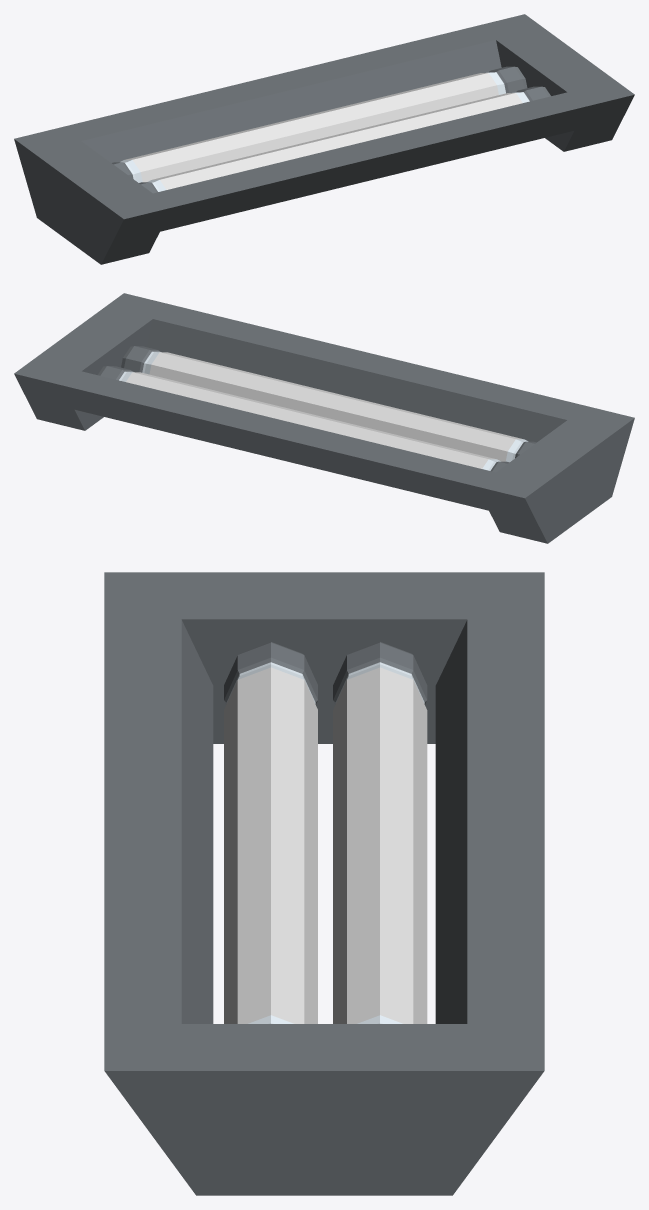
File: Tl_light_group.fbx
The picture shows the model from 3 angles, top to bottom: view 1: azimuth 30°, elevation 25°; view 2: azimuth 150°, elevation 25°; view 3: azimuth 270°, elevation 25°; orthographic projection. The views are drawn at different scales.
Parts seen in each view (by area): view 1: tl_Light; view 2: tl_Light; view 3: tl_Light.
Boxes of the visible parts, box(x1,y1,x2,y2) form: tl_Light: box(14, 14, 634, 264); tl_Light: box(14, 293, 634, 543); tl_Light: box(104, 572, 544, 1195).
Bounding box in the file's own units: 1.25 × 0.1462 × 0.4679.
